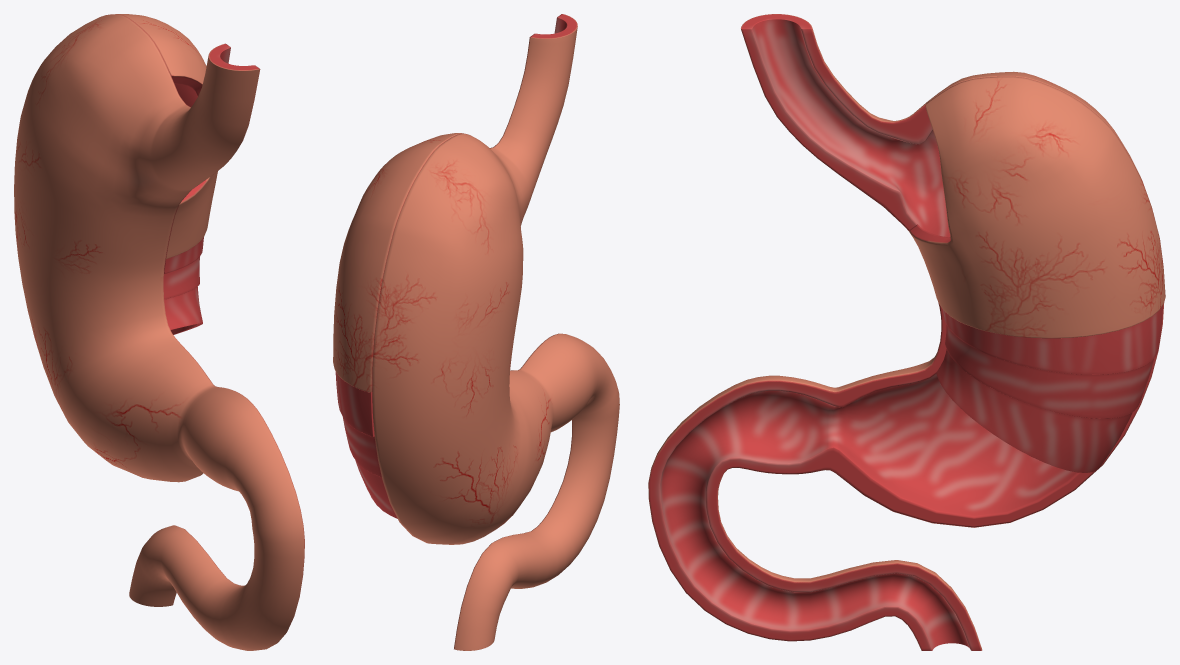
Rendered from stomach.glb.
3 renders of one model, left to right at view 1: azimuth 30°, elevation 25°; view 2: azimuth 150°, elevation 25°; view 3: azimuth 270°, elevation 25°, orthographic. The views are drawn at different scales.
Parts seen in each view (by area): view 1: Stomach; view 2: Stomach; view 3: Stomach.
Part boxes in pixels (x1=…): Stomach: x1=14, y1=14, x2=304, y2=650; Stomach: x1=333, y1=14, x2=619, y2=650; Stomach: x1=648, y1=14, x2=1165, y2=650.
Size of the model in its own units: 0.0257 by 0.09 by 0.0678.
Materials: 1 (1 with a texture image).
